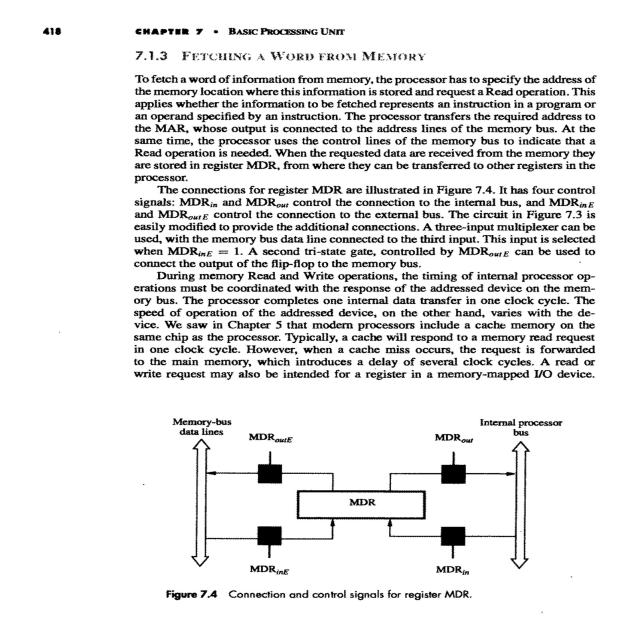diagram: (112, 405, 614, 619)
